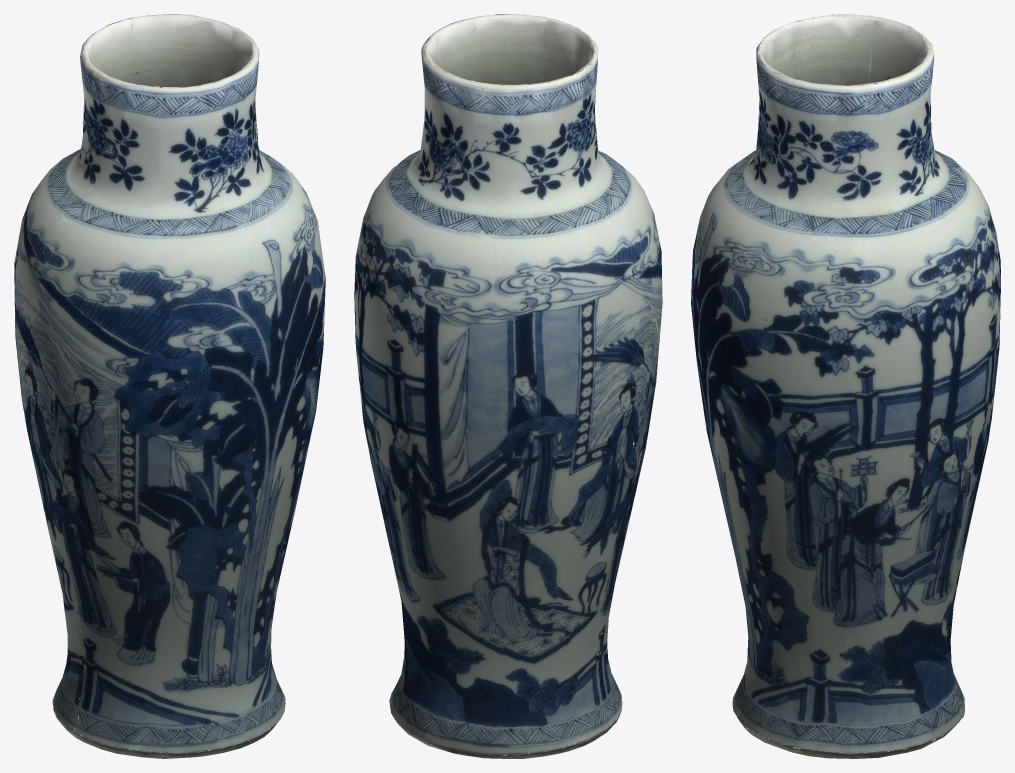
File: vase.glb
3 renders of one model, left to right at view 1: azimuth 30°, elevation 25°; view 2: azimuth 150°, elevation 25°; view 3: azimuth 270°, elevation 25°, orthographic.
Parts seen in each view (by area): view 1: Mesh_0; view 2: Mesh_0; view 3: Mesh_0.
Part boxes in pixels (left/top/right/bottom): Mesh_0: left=14, top=14, right=325, bottom=758; Mesh_0: left=354, top=14, right=662, bottom=758; Mesh_0: left=691, top=14, right=1000, bottom=758.
Bounding box in the file's own units: 0.1708 × 0.4057 × 0.1716.
Materials: 1 (1 with a texture image).
